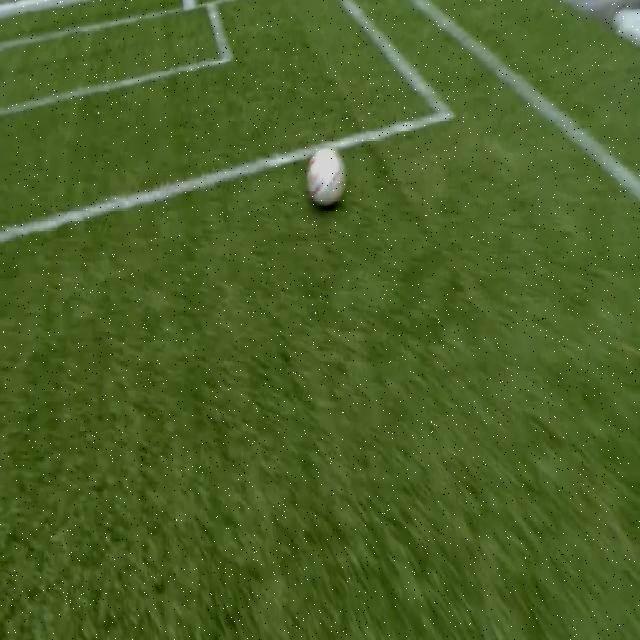ball: (308, 147, 346, 206)
